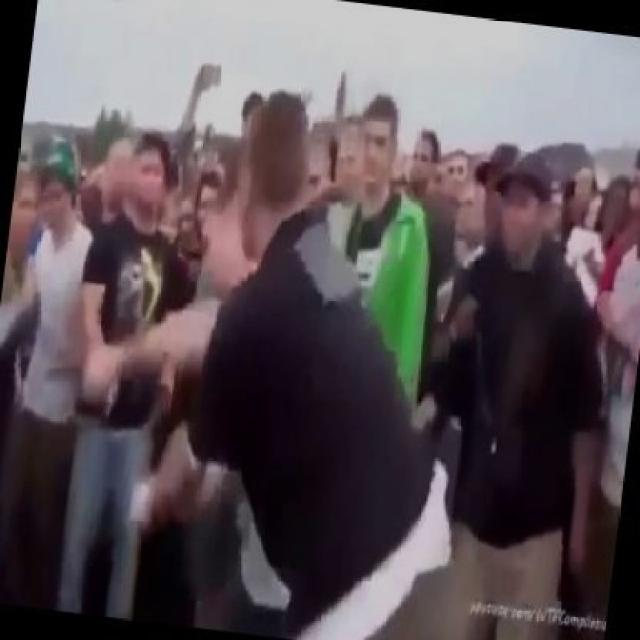fight: (78, 69, 458, 640)
non-fight: (415, 146, 594, 640), (50, 134, 190, 622), (0, 150, 91, 622)
